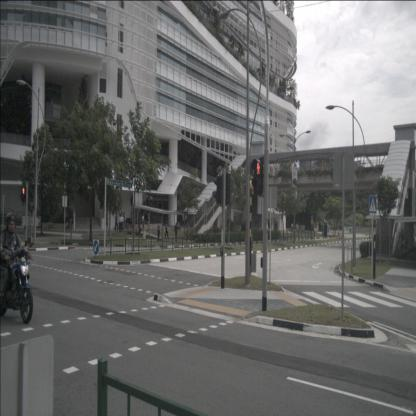human-pedestrian-adult: (69, 216, 73, 240), (164, 221, 169, 240), (174, 222, 178, 242), (120, 214, 124, 233), (106, 213, 109, 235), (157, 221, 160, 242), (138, 212, 141, 231), (119, 214, 122, 233), (115, 213, 118, 232), (122, 212, 125, 230), (128, 223, 132, 235), (147, 212, 149, 231), (290, 223, 294, 232), (142, 214, 144, 231), (296, 222, 298, 235)
vehicle-motorcycle: (0, 211, 34, 324)
